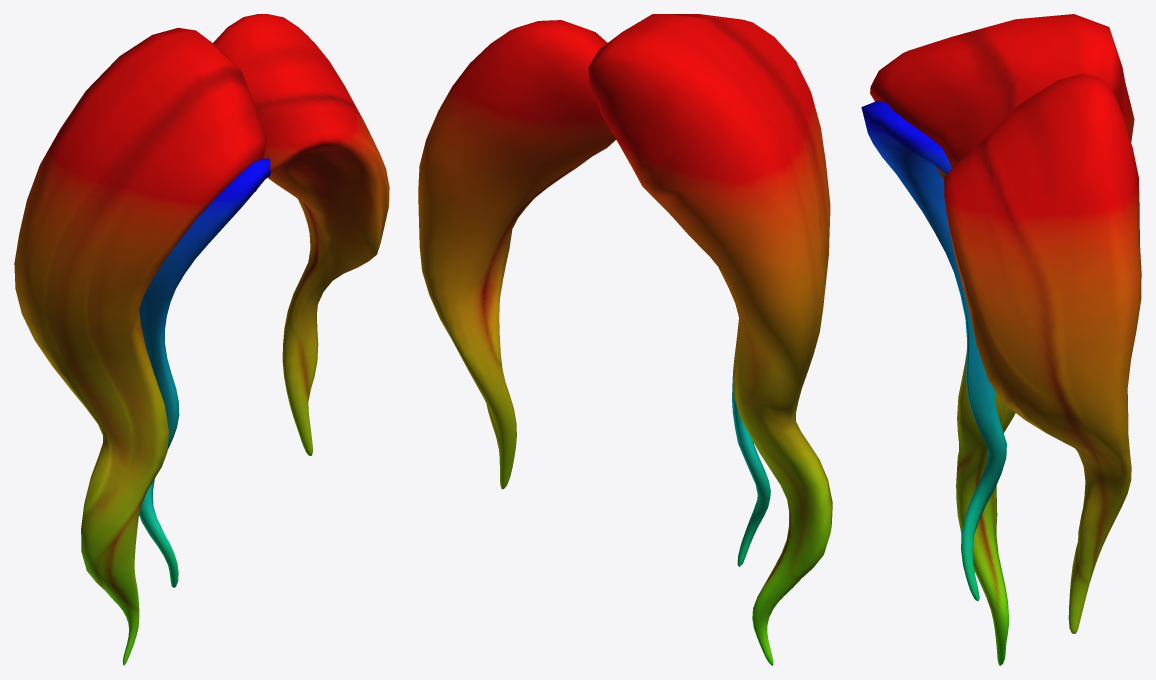
The model's file is HairFront_Elegant.obj.
3 renders of one model, left to right at view 1: azimuth 30°, elevation 25°; view 2: azimuth 150°, elevation 25°; view 3: azimuth 270°, elevation 25°, orthographic. The views are drawn at different scales.
Parts seen in each view (by area): view 1: HairFront_Elegant_0; view 2: HairFront_Elegant_0; view 3: HairFront_Elegant_0.
Part boxes in pixels (left/top/right/bottom): HairFront_Elegant_0: left=14, top=14, right=389, bottom=665; HairFront_Elegant_0: left=418, top=14, right=832, bottom=665; HairFront_Elegant_0: left=861, top=14, right=1141, bottom=665.
Bounding box in the file's own units: 0.235 × 0.375 × 0.138.
1 material, 1 textured.
